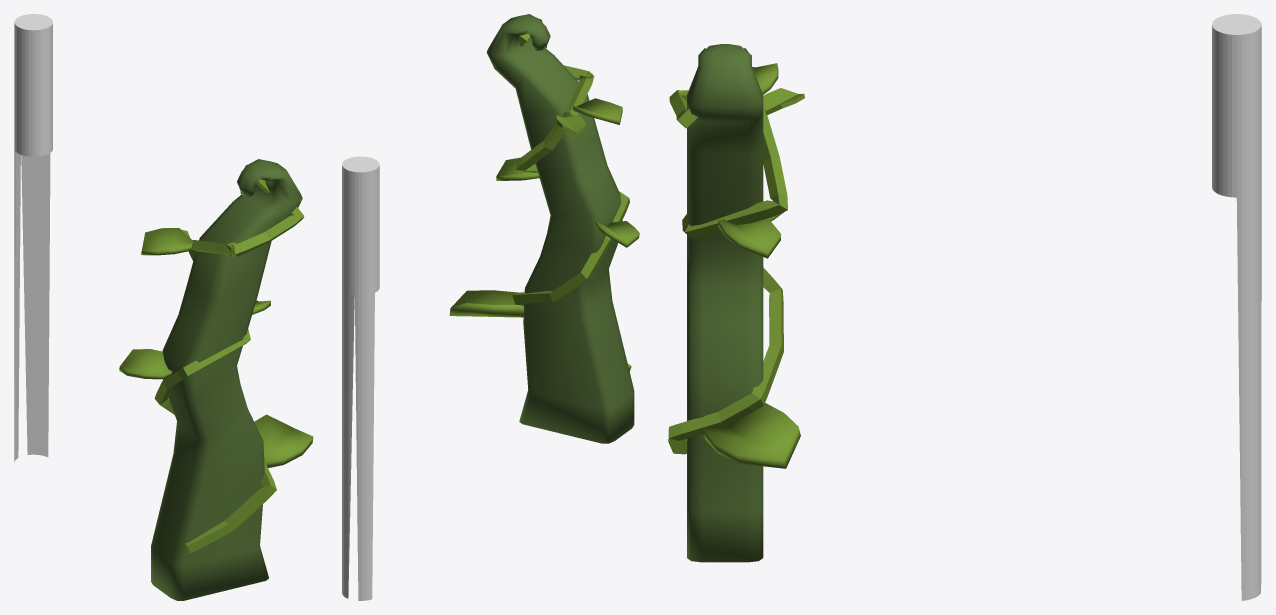
File: Beanstalk.fbx
3 views of the same model, side by side, from view 1: azimuth 30°, elevation 25°; view 2: azimuth 150°, elevation 25°; view 3: azimuth 270°, elevation 25° (orthographic). The views are drawn at different scales.
Visible parts, largest first — view 1: Cube, Cylinder.348, Vert.005, Plane.003, Plane.004, Plane; view 2: Cube, Cylinder.348, Vert.005, Plane.003, Plane, Plane.004, Plane.002, Plane.001; view 3: Cube, Cylinder.348, Vert.005, Plane.003, Plane.002.
Part boxes in pixels (bbox=[...]): Cube: bbox=[151, 159, 302, 600]; Cylinder.348: bbox=[14, 14, 52, 462]; Vert.005: bbox=[154, 179, 304, 553]; Plane.003: bbox=[254, 414, 313, 468]; Plane.004: bbox=[119, 349, 172, 379]; Plane: bbox=[141, 228, 193, 255]; Cube: bbox=[486, 14, 634, 443]; Cylinder.348: bbox=[342, 156, 379, 600]; Vert.005: bbox=[512, 33, 631, 371]; Plane.003: bbox=[449, 290, 523, 317]; Plane: bbox=[573, 98, 622, 124]; Plane.004: bbox=[595, 221, 639, 247]; Plane.002: bbox=[496, 157, 539, 180]; Plane.001: bbox=[555, 115, 586, 135]; Cube: bbox=[687, 44, 763, 562]; Cylinder.348: bbox=[1212, 14, 1261, 600]; Vert.005: bbox=[668, 90, 787, 454]; Plane.003: bbox=[703, 403, 800, 468]; Plane.002: bbox=[718, 219, 781, 258].
Bounding box in the file's own units: 1086 × 2514 × 2388.
